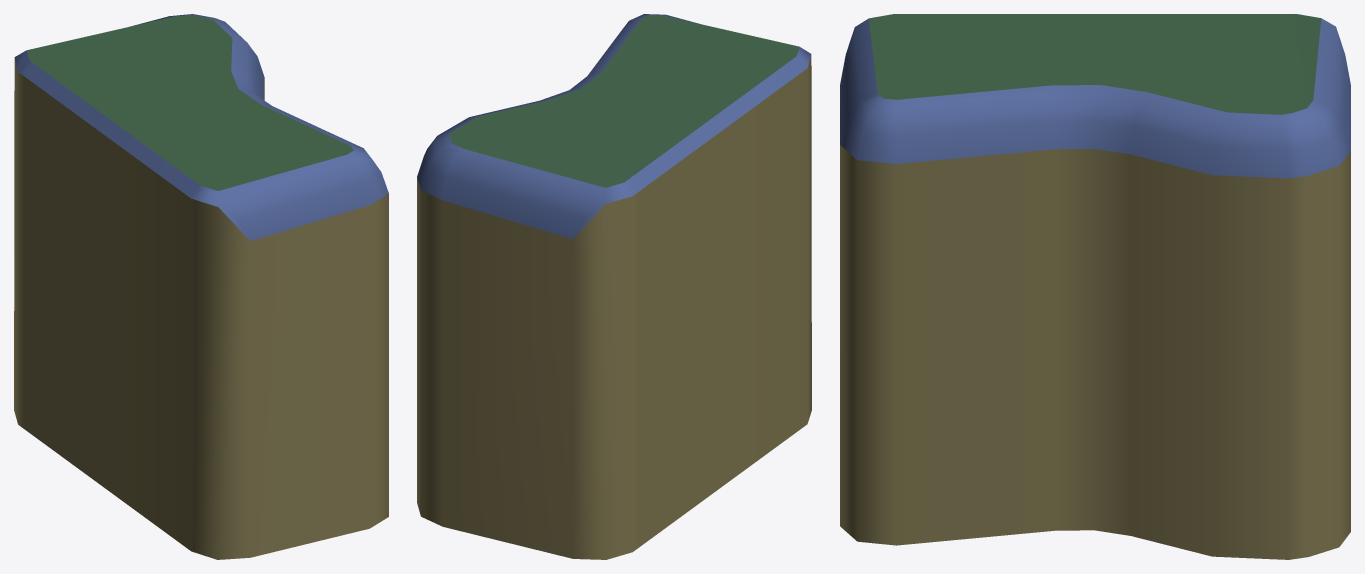
File: Quinta_plat.fbx
3 views of the same model, side by side, from view 1: azimuth 30°, elevation 25°; view 2: azimuth 150°, elevation 25°; view 3: azimuth 270°, elevation 25° (orthographic). The views are drawn at different scales.
Visible parts, largest first — view 1: Quinta_plat, Ground11, Wall11; view 2: Quinta_plat, Ground11, Wall11; view 3: Quinta_plat, Wall11, Ground11.
Boxes of the visible parts, x1,y1,x2,y2 form: Quinta_plat: (14,58,388,559); Ground11: (26,15,353,190); Wall11: (14,14,388,240); Quinta_plat: (417,55,811,559); Ground11: (449,15,799,187); Wall11: (417,14,811,238); Quinta_plat: (840,145,1350,559); Wall11: (840,18,1350,178); Ground11: (869,14,1321,114).
Size of the model in its own units: 4790 by 7753 by 8349.
